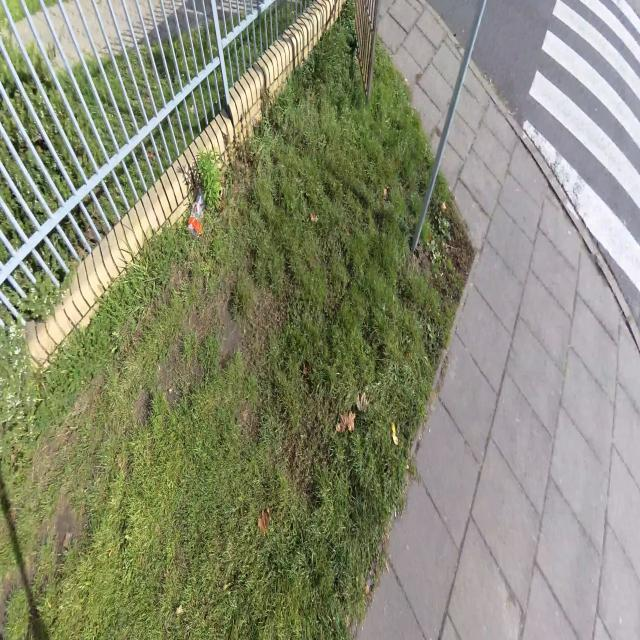rubbish: (186, 189, 204, 239)
